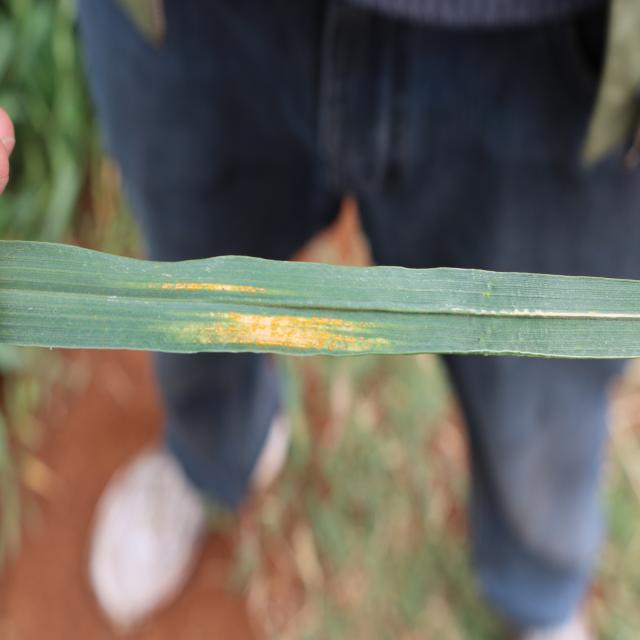Stripe Rust: (164, 306, 368, 366), (146, 277, 271, 297)
